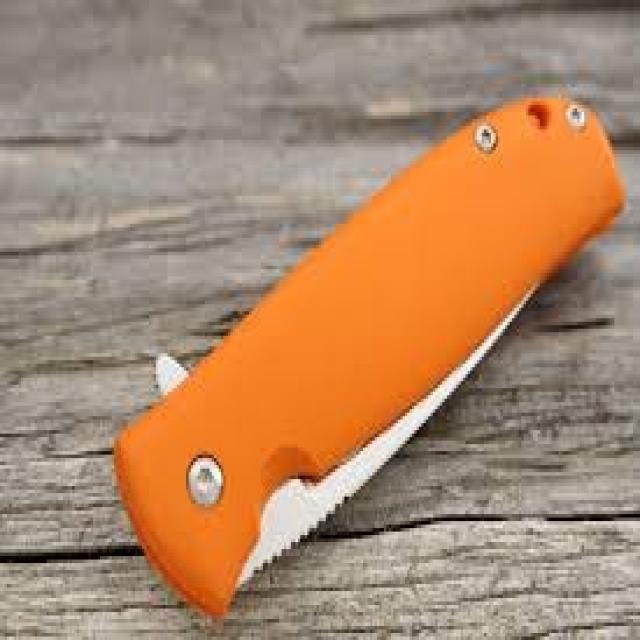knives: (110, 84, 628, 622)
